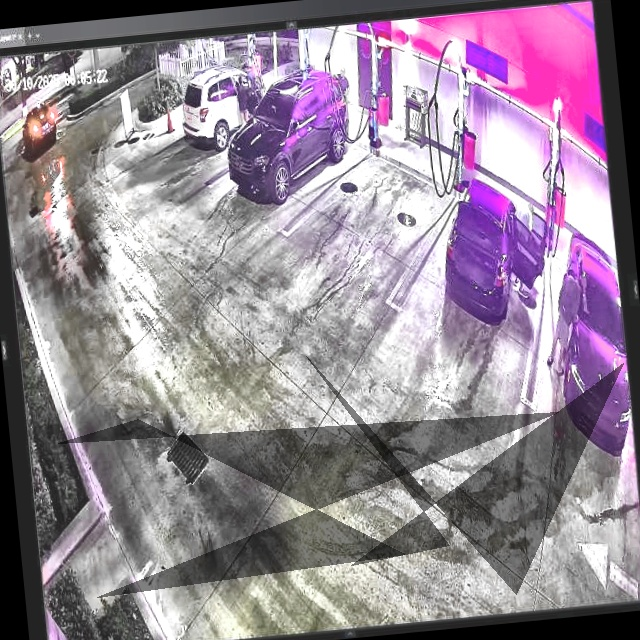Car: (219, 64, 355, 206), (436, 173, 556, 320), (178, 66, 277, 146)
